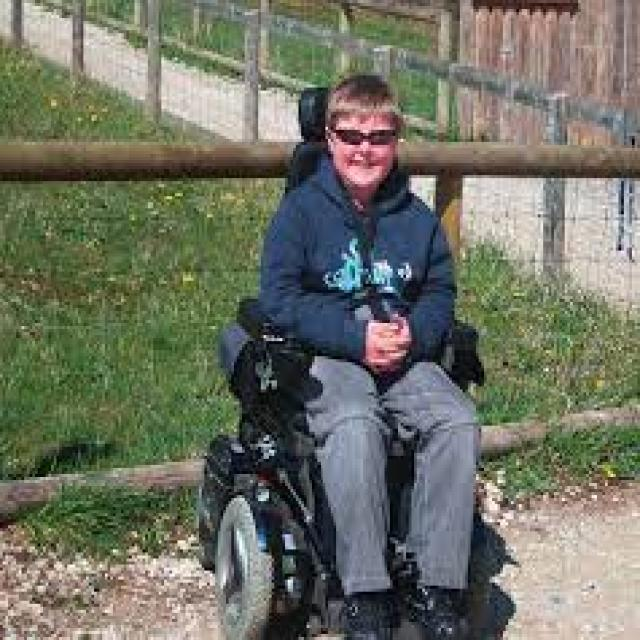wheelchairs: (175, 18, 536, 640)
